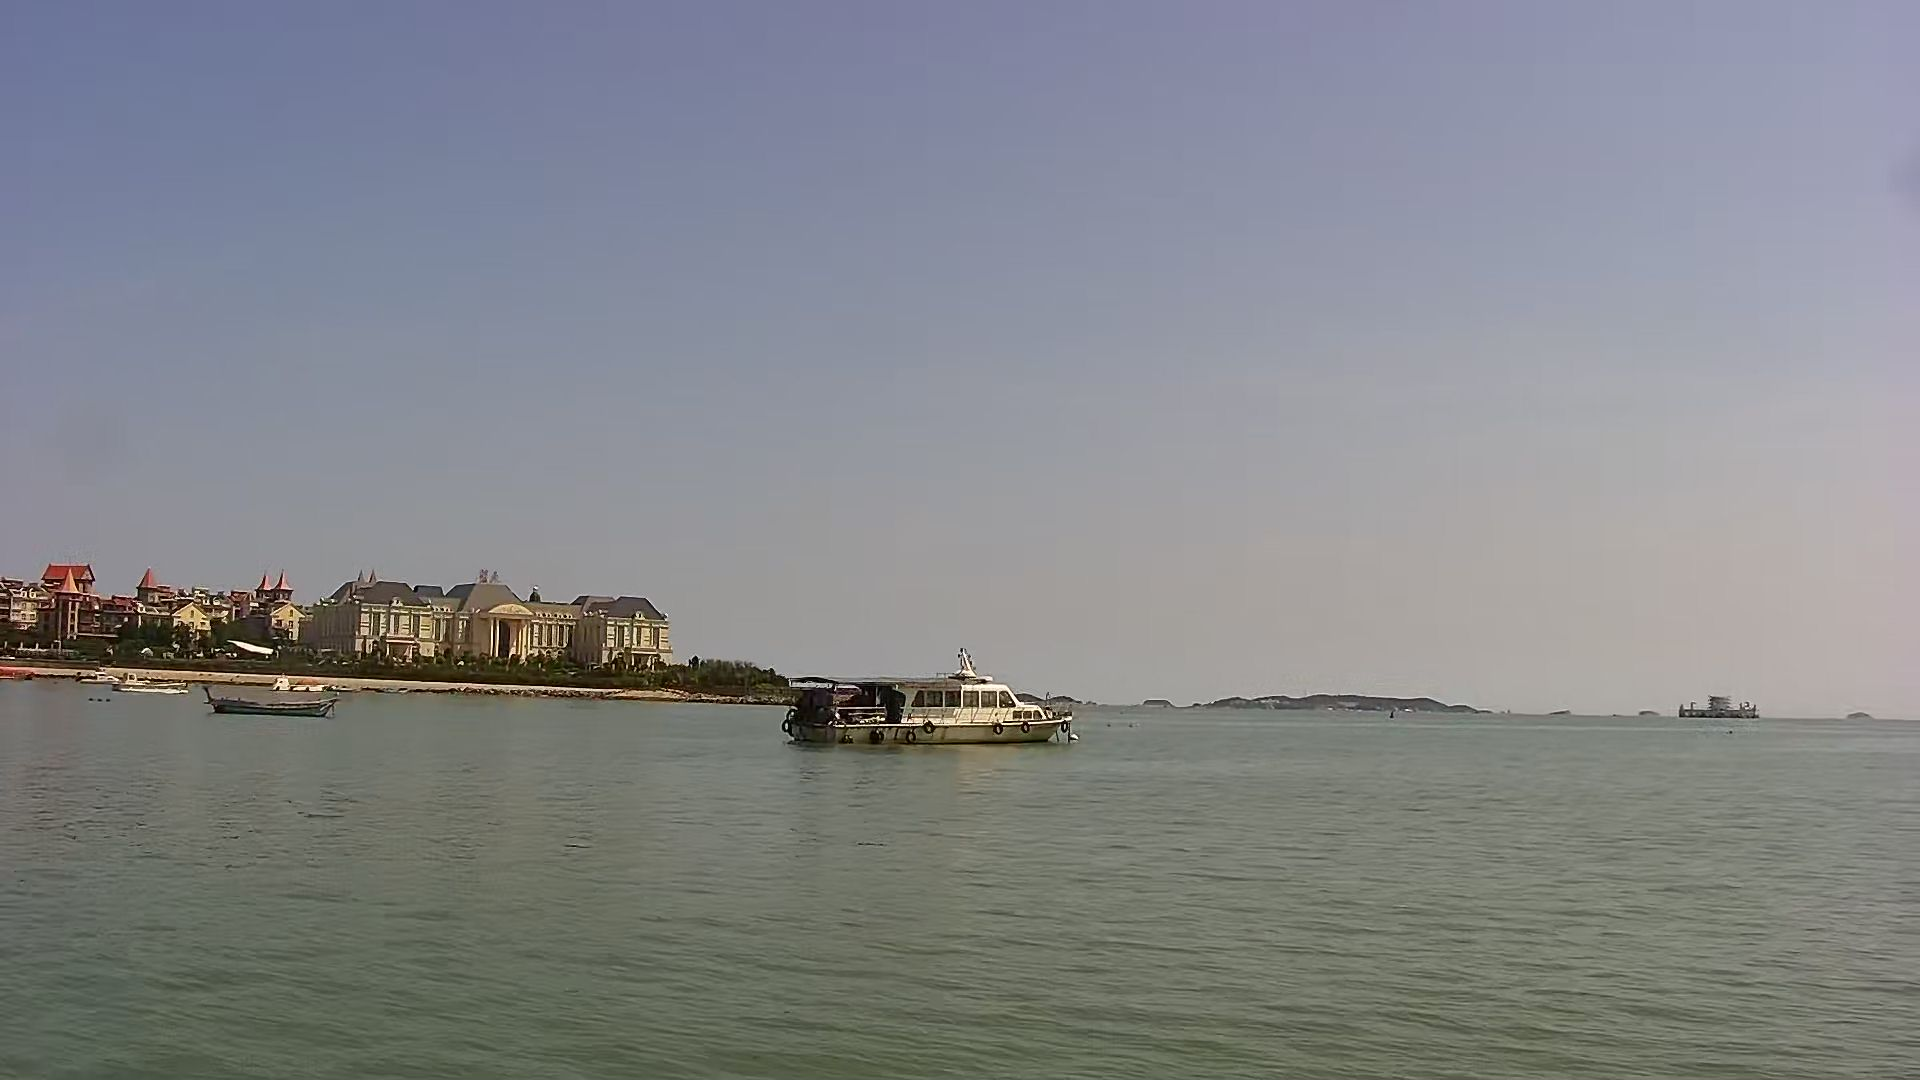boat: (200, 690, 338, 720), (108, 671, 193, 698)
platform: (1673, 691, 1760, 723)
ship: (781, 649, 1077, 752)
